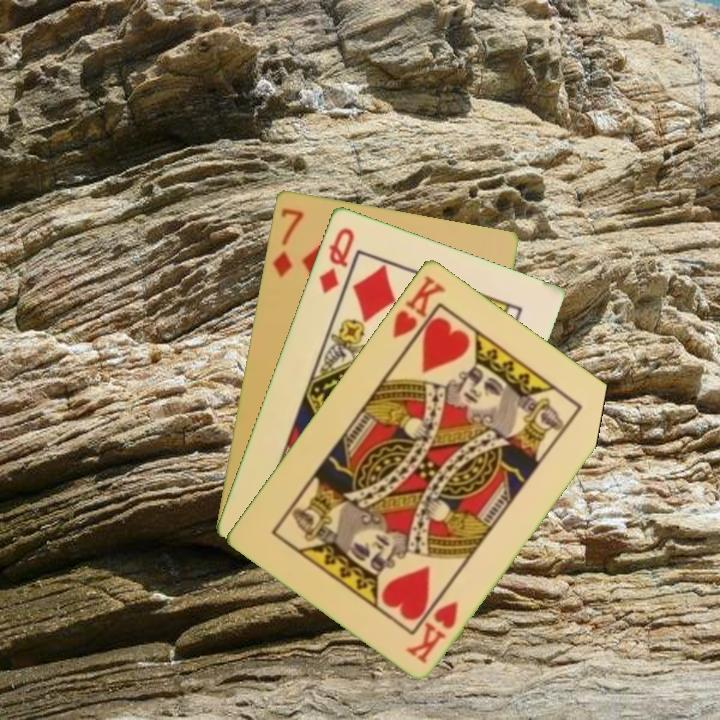7d: (268, 204, 307, 280)
Kh: (388, 271, 449, 353), (402, 596, 462, 666)
Qd: (315, 223, 357, 296)
